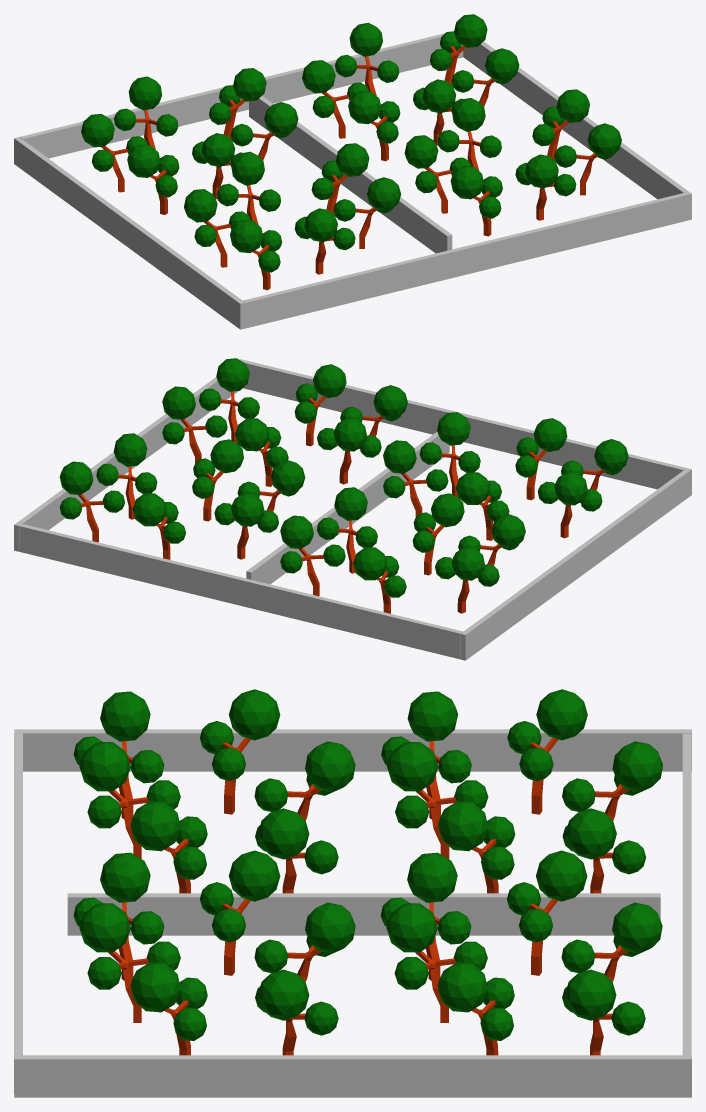
The model's file is forest2.obj.
3 views of the same model, one above another, from view 1: azimuth 30°, elevation 25°; view 2: azimuth 150°, elevation 25°; view 3: azimuth 270°, elevation 25° (orthographic). The views are drawn at different scales.
Parts seen in each view (by area): view 1: Cube.070, Cube.065, Cube.068, Cube.071, Cube.067, Cube.044, Cube.064, Cube.069, Cube.066, Cube.063, Cube.057, Cube.060 (+46 smaller); view 2: Cube.060, Cube.056, Cube.057, Cube.058, Cube.059, Cube.062, Cube.063, Cube.061, Cube.072, Cube.044, Cube.068, Cube.065 (+43 smaller); view 3: Cube.075, Cube.077, Cube.074, Cube.080, Cube.078, Cube.079, Cube.073, Cube.076, Cube.047, Cube.049, Cube.052, Cube.055 (+75 smaller).
Part boxes in pixels (x1,y1,x2,y2): Cube.070: (341,264,392,304); Cube.065: (488,229,539,268); Cube.068: (243,288,294,328); Cube.071: (390,252,441,292); Cube.067: (586,205,637,244); Cube.044: (635,193,686,232); Cube.064: (439,241,490,280); Cube.069: (292,276,343,316); Cube.066: (537,217,588,256); Cube.063: (167,89,218,126); Cube.057: (265,67,314,103); Cube.060: (20,125,71,158); Cube.060: (410,619,462,659); Cube.056: (214,571,266,611); Cube.057: (165,559,217,599); Cube.058: (116,548,168,587); Cube.059: (67,536,119,575); Cube.062: (312,595,364,635); Cube.063: (263,583,315,623); Cube.061: (361,607,413,647); Cube.072: (19,523,70,563); Cube.044: (243,360,294,400); Cube.068: (634,456,686,489); Cube.065: (389,400,441,434); Cube.075: (522,1055,607,1097); Cube.077: (14,1055,99,1097); Cube.074: (437,1055,522,1097); Cube.080: (268,1055,353,1097); Cube.078: (98,1055,183,1097); Cube.079: (183,1055,268,1097); Cube.073: (353,1055,437,1097); Cube.076: (607,1055,691,1097); Cube.047: (237,893,321,935); Cube.049: (438,729,522,771); Cube.052: (14,729,99,771); Cube.055: (268,729,353,771).
Bounding box in the file's own units: 45.36 × 7.23 × 39.42.
